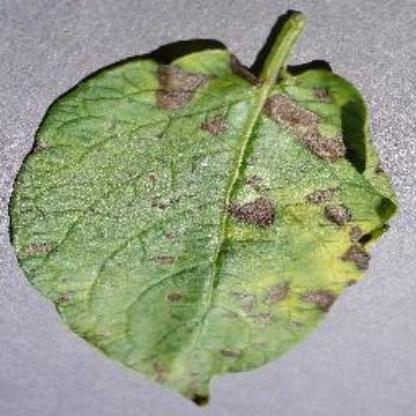Early-Blight: (9, 9, 402, 403)
